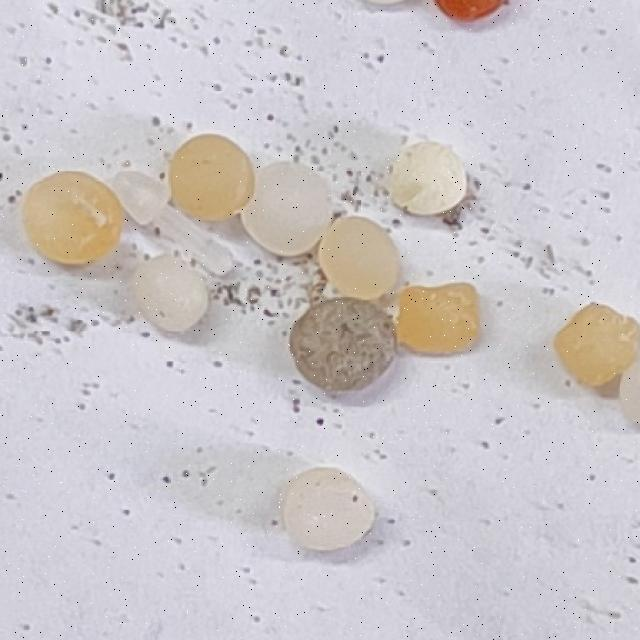beads: (274, 273, 415, 414), (9, 158, 133, 275), (267, 452, 384, 570), (234, 154, 345, 268), (305, 203, 414, 314), (377, 128, 478, 228), (121, 243, 219, 344), (162, 130, 260, 225)
fragments: (102, 156, 239, 294), (394, 281, 481, 358), (1, 0, 1, 1)
